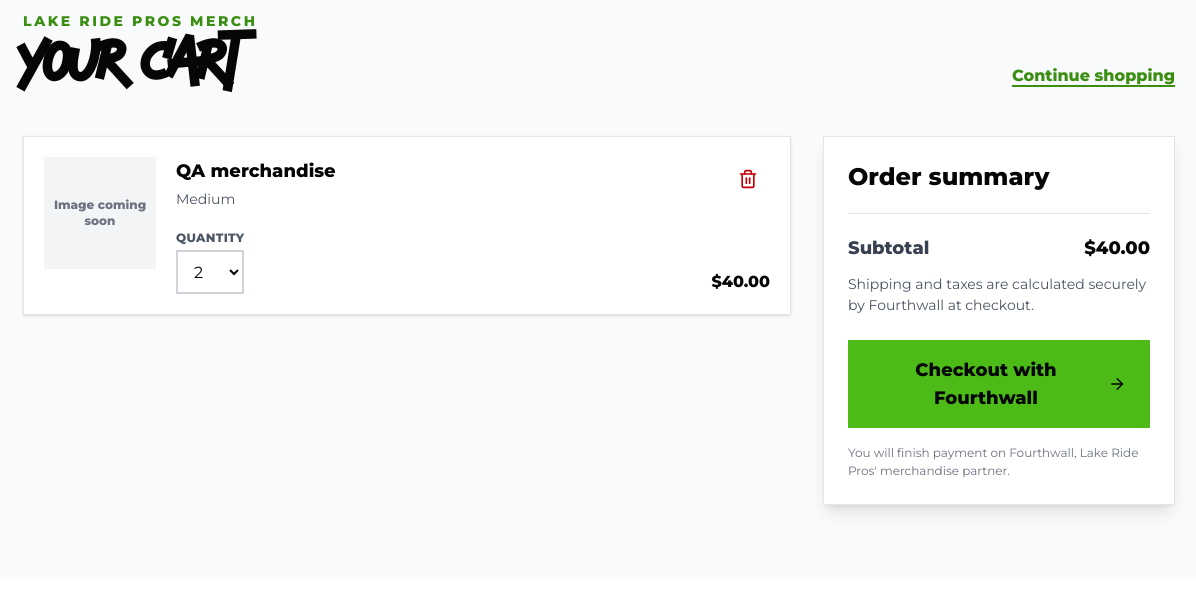
Public commerce editorial presentation › retains cart totals, quantity controls, removal and mocked Fourthwall checkout failure
Expected: the text "$40.00" is shown 2 times, [712,270,770,294]; [1084,234,1150,262]
Select "3" in the dropdown labelled "Quantity": (210, 272) [176,250,244,294]
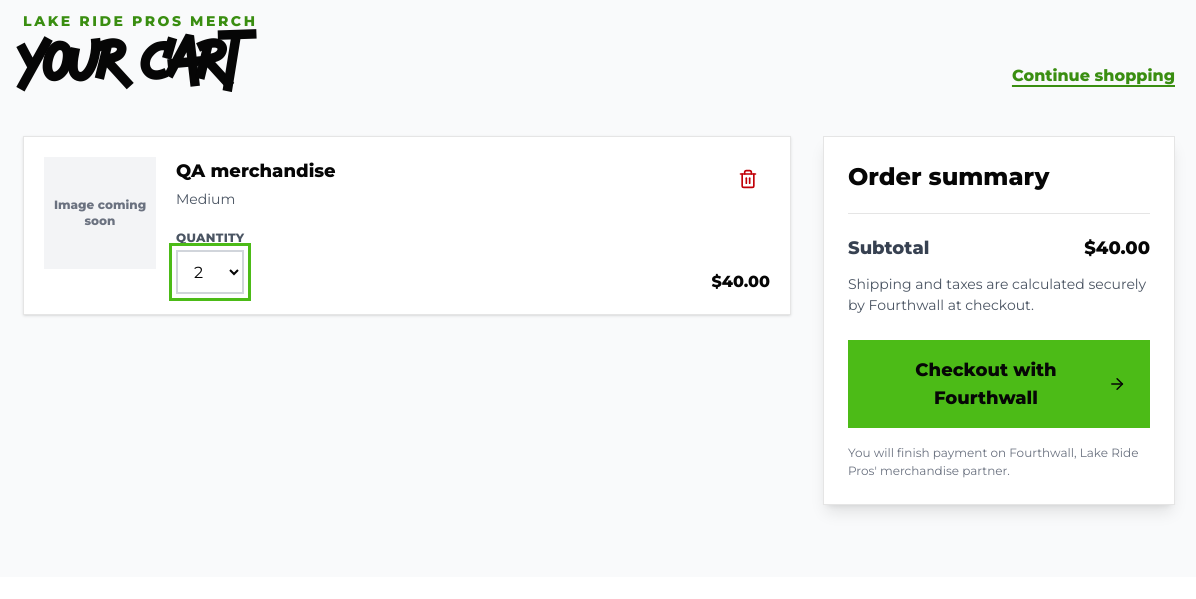
Click the button named "Remove QA merchandise from cart": (748, 179) [726,157,770,201]
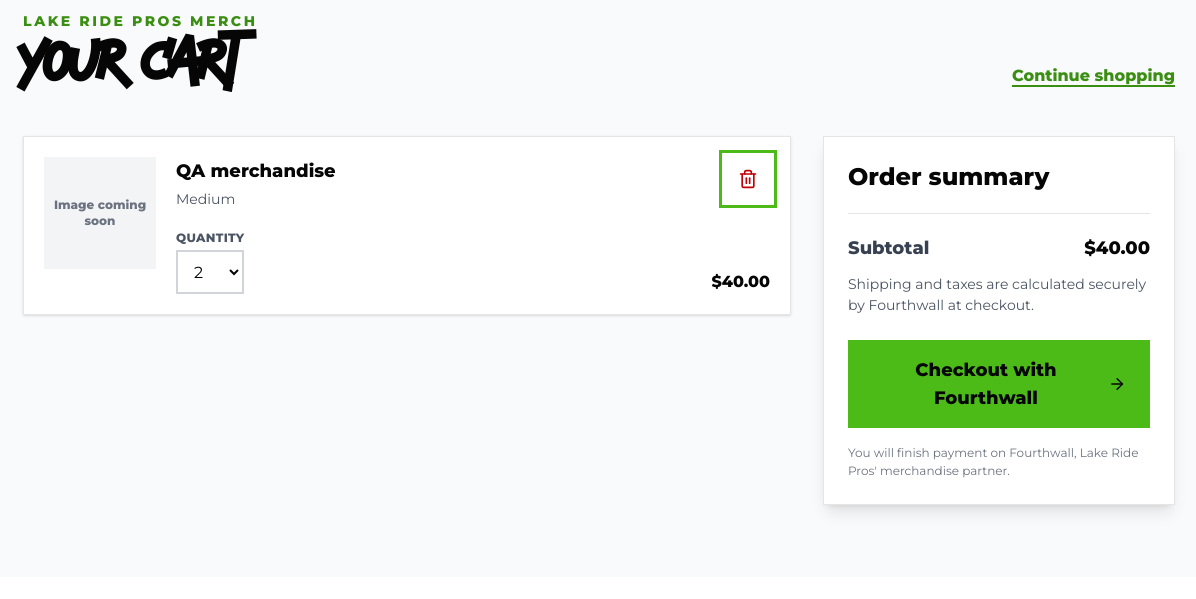
Click the button "Checkout with Fourthwall": (999, 384) [848,340,1150,428]
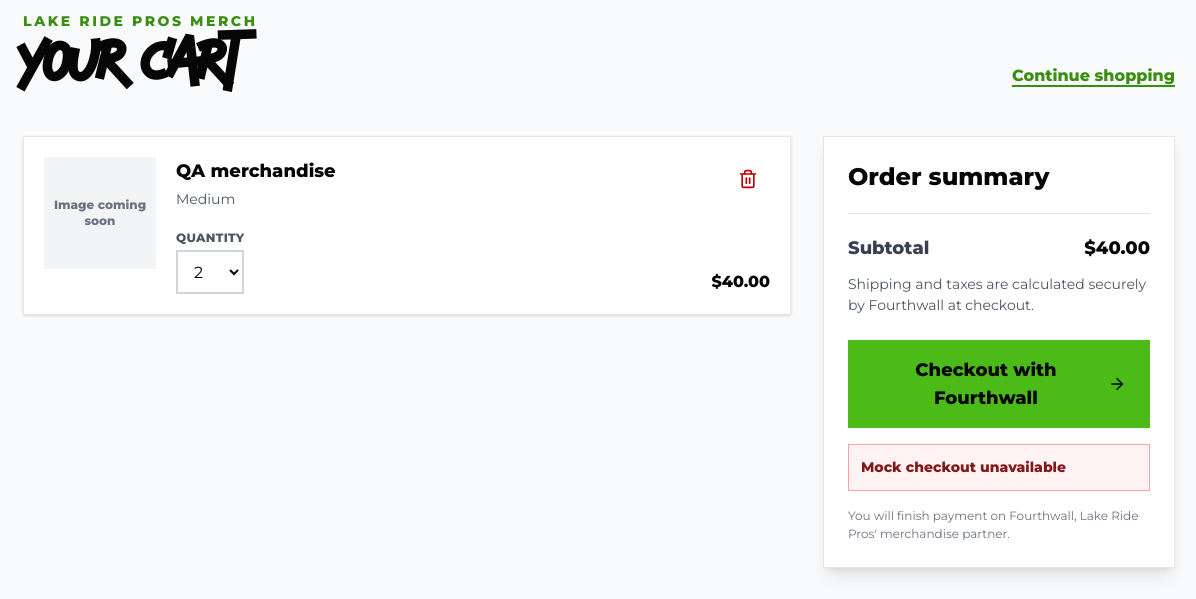
Now the text "Mock checkout unavailable" is shown, box [848,444,1150,491]
